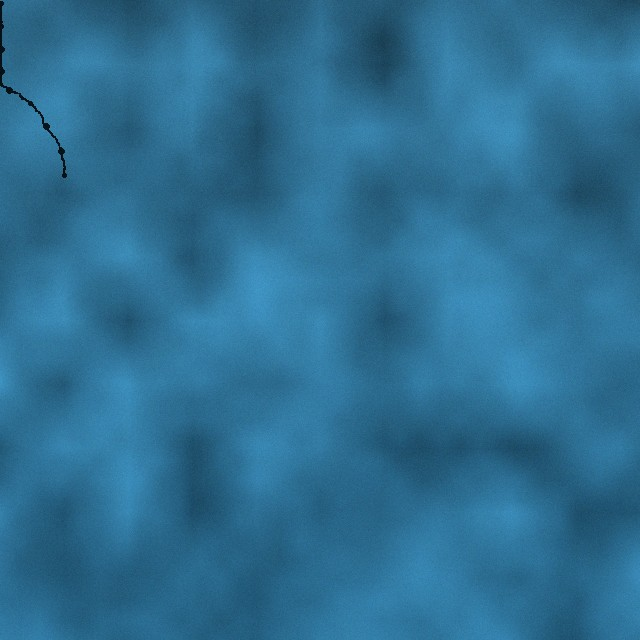crack: (0, 0, 69, 179)
